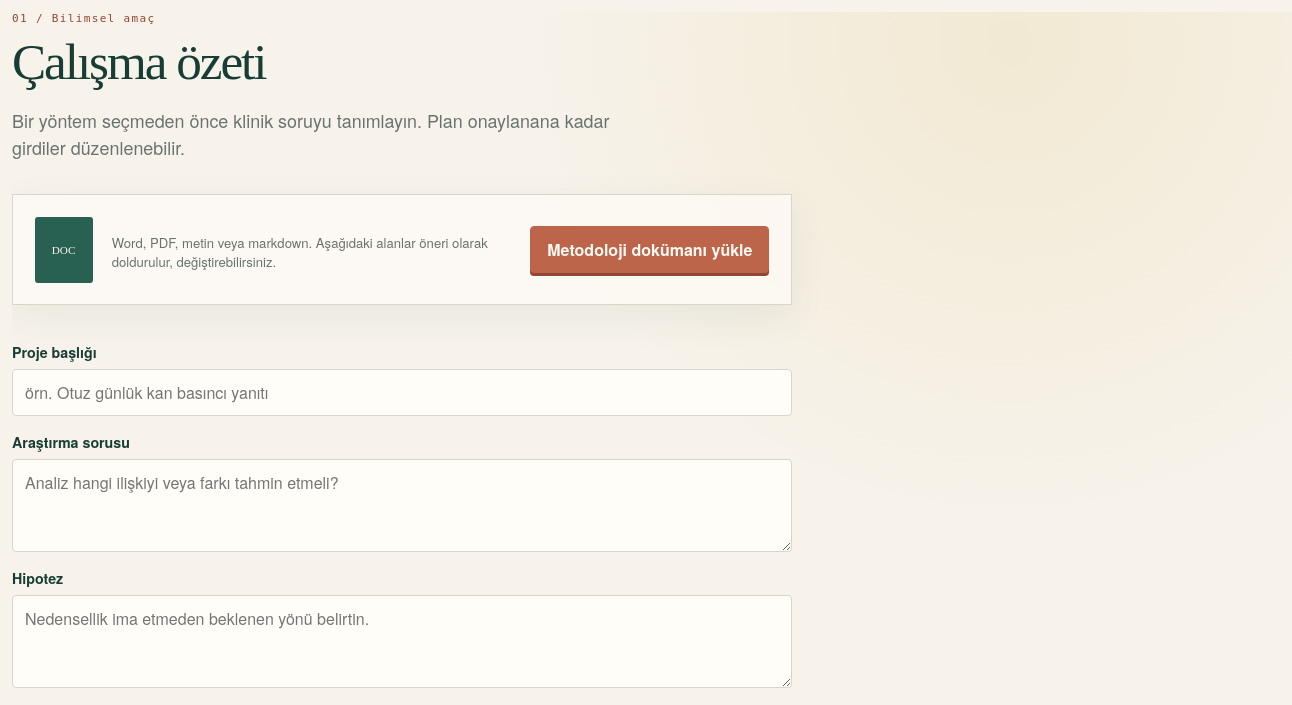
Scenario: shows a visible limited-rule fallback when local AI is unavailable
Click the button "Metodoloji dokümanı yükle" at (650, 250), box x1=530 y1=226 x2=769 y2=273
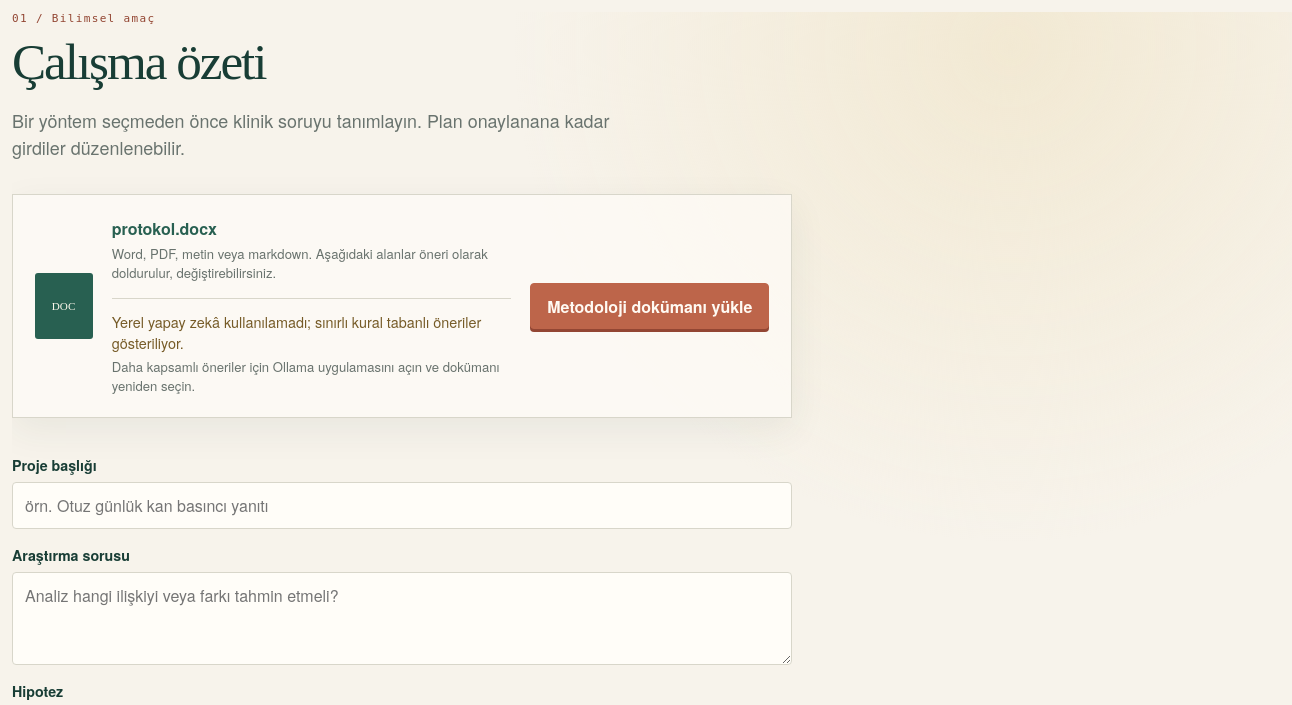
Check: the text "Yerel yapay zekâ kullanılamadı; sınırlı kural tabanlı öneriler gösteriliyor." is shown, box x1=112 y1=298 x2=511 y2=354
Check: the text "Ollama uygulamasını açın" is shown, box x1=112 y1=358 x2=500 y2=396
